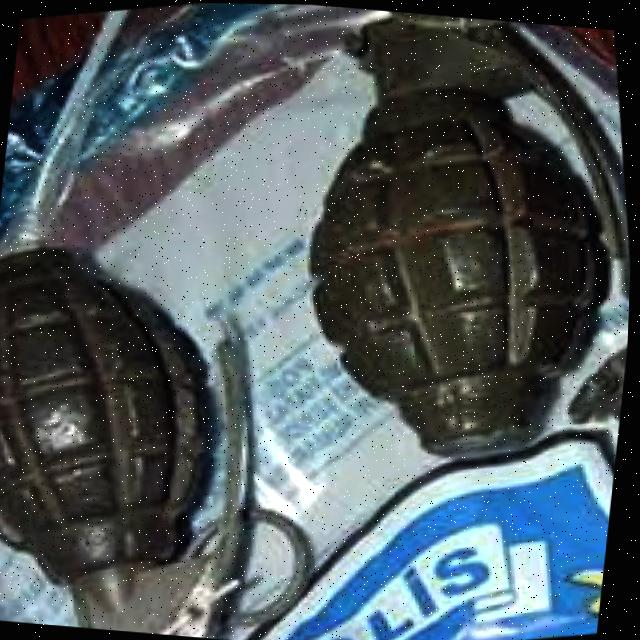grenade: (234, 3, 640, 498), (0, 175, 360, 640)
